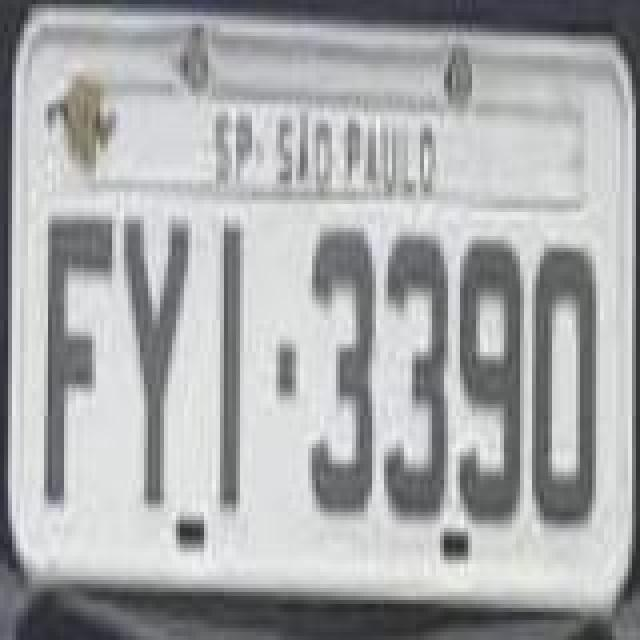1: (220, 214, 244, 506)
3: (308, 228, 380, 524), (382, 228, 450, 524)
9: (456, 232, 520, 528)
F: (44, 206, 116, 506)
O: (534, 240, 602, 528)
Y: (118, 208, 194, 512)
